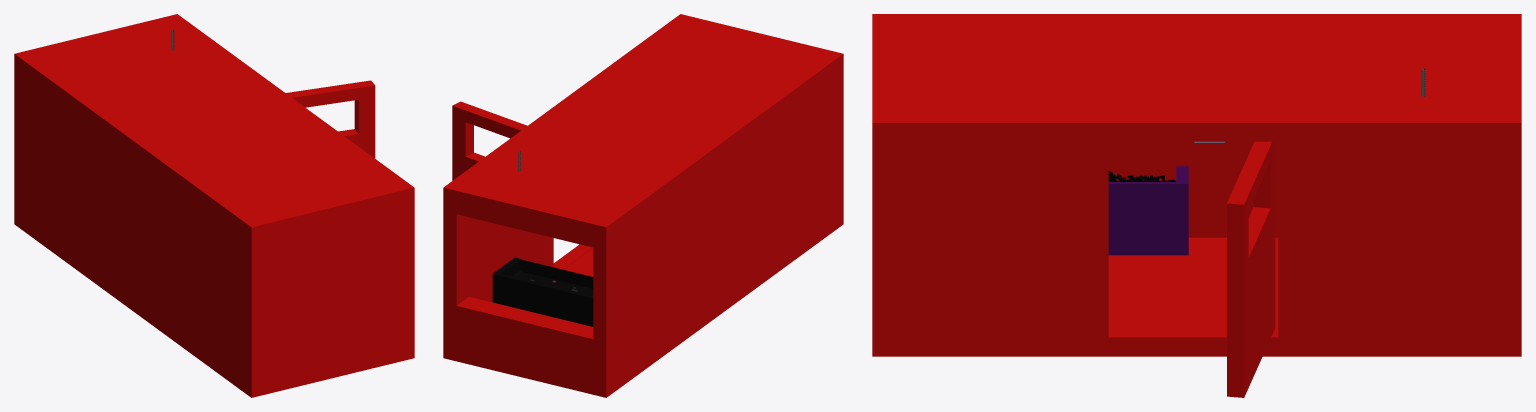
The model's file is Train_cabin.obj.
3 views of the same model, side by side, from view 1: azimuth 30°, elevation 25°; view 2: azimuth 150°, elevation 25°; view 3: azimuth 270°, elevation 25° (orthographic). The views are drawn at different scales.
Visible parts, largest first — view 1: Train_Cabin, Door; view 2: Train_Cabin, Train_Control_panel, Door; view 3: Train_Cabin, Door, Cube.
Part boxes in pixels (x1,y1,x2,y2): Train_Cabin: (14, 14, 414, 397); Door: (286, 80, 375, 158); Train_Cabin: (443, 14, 843, 397); Train_Control_panel: (492, 257, 593, 326); Door: (452, 101, 553, 267); Train_Cabin: (872, 14, 1521, 356); Door: (1227, 141, 1275, 397); Cube: (1108, 166, 1188, 255).
Bounding box in the file's own units: 311 × 222 × 501.
